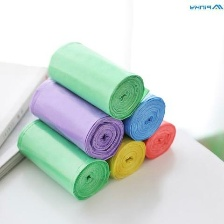plastic_bag: (21, 74, 126, 162), (12, 115, 110, 205), (46, 36, 148, 122), (113, 87, 173, 140), (133, 109, 181, 162), (105, 134, 150, 183)
